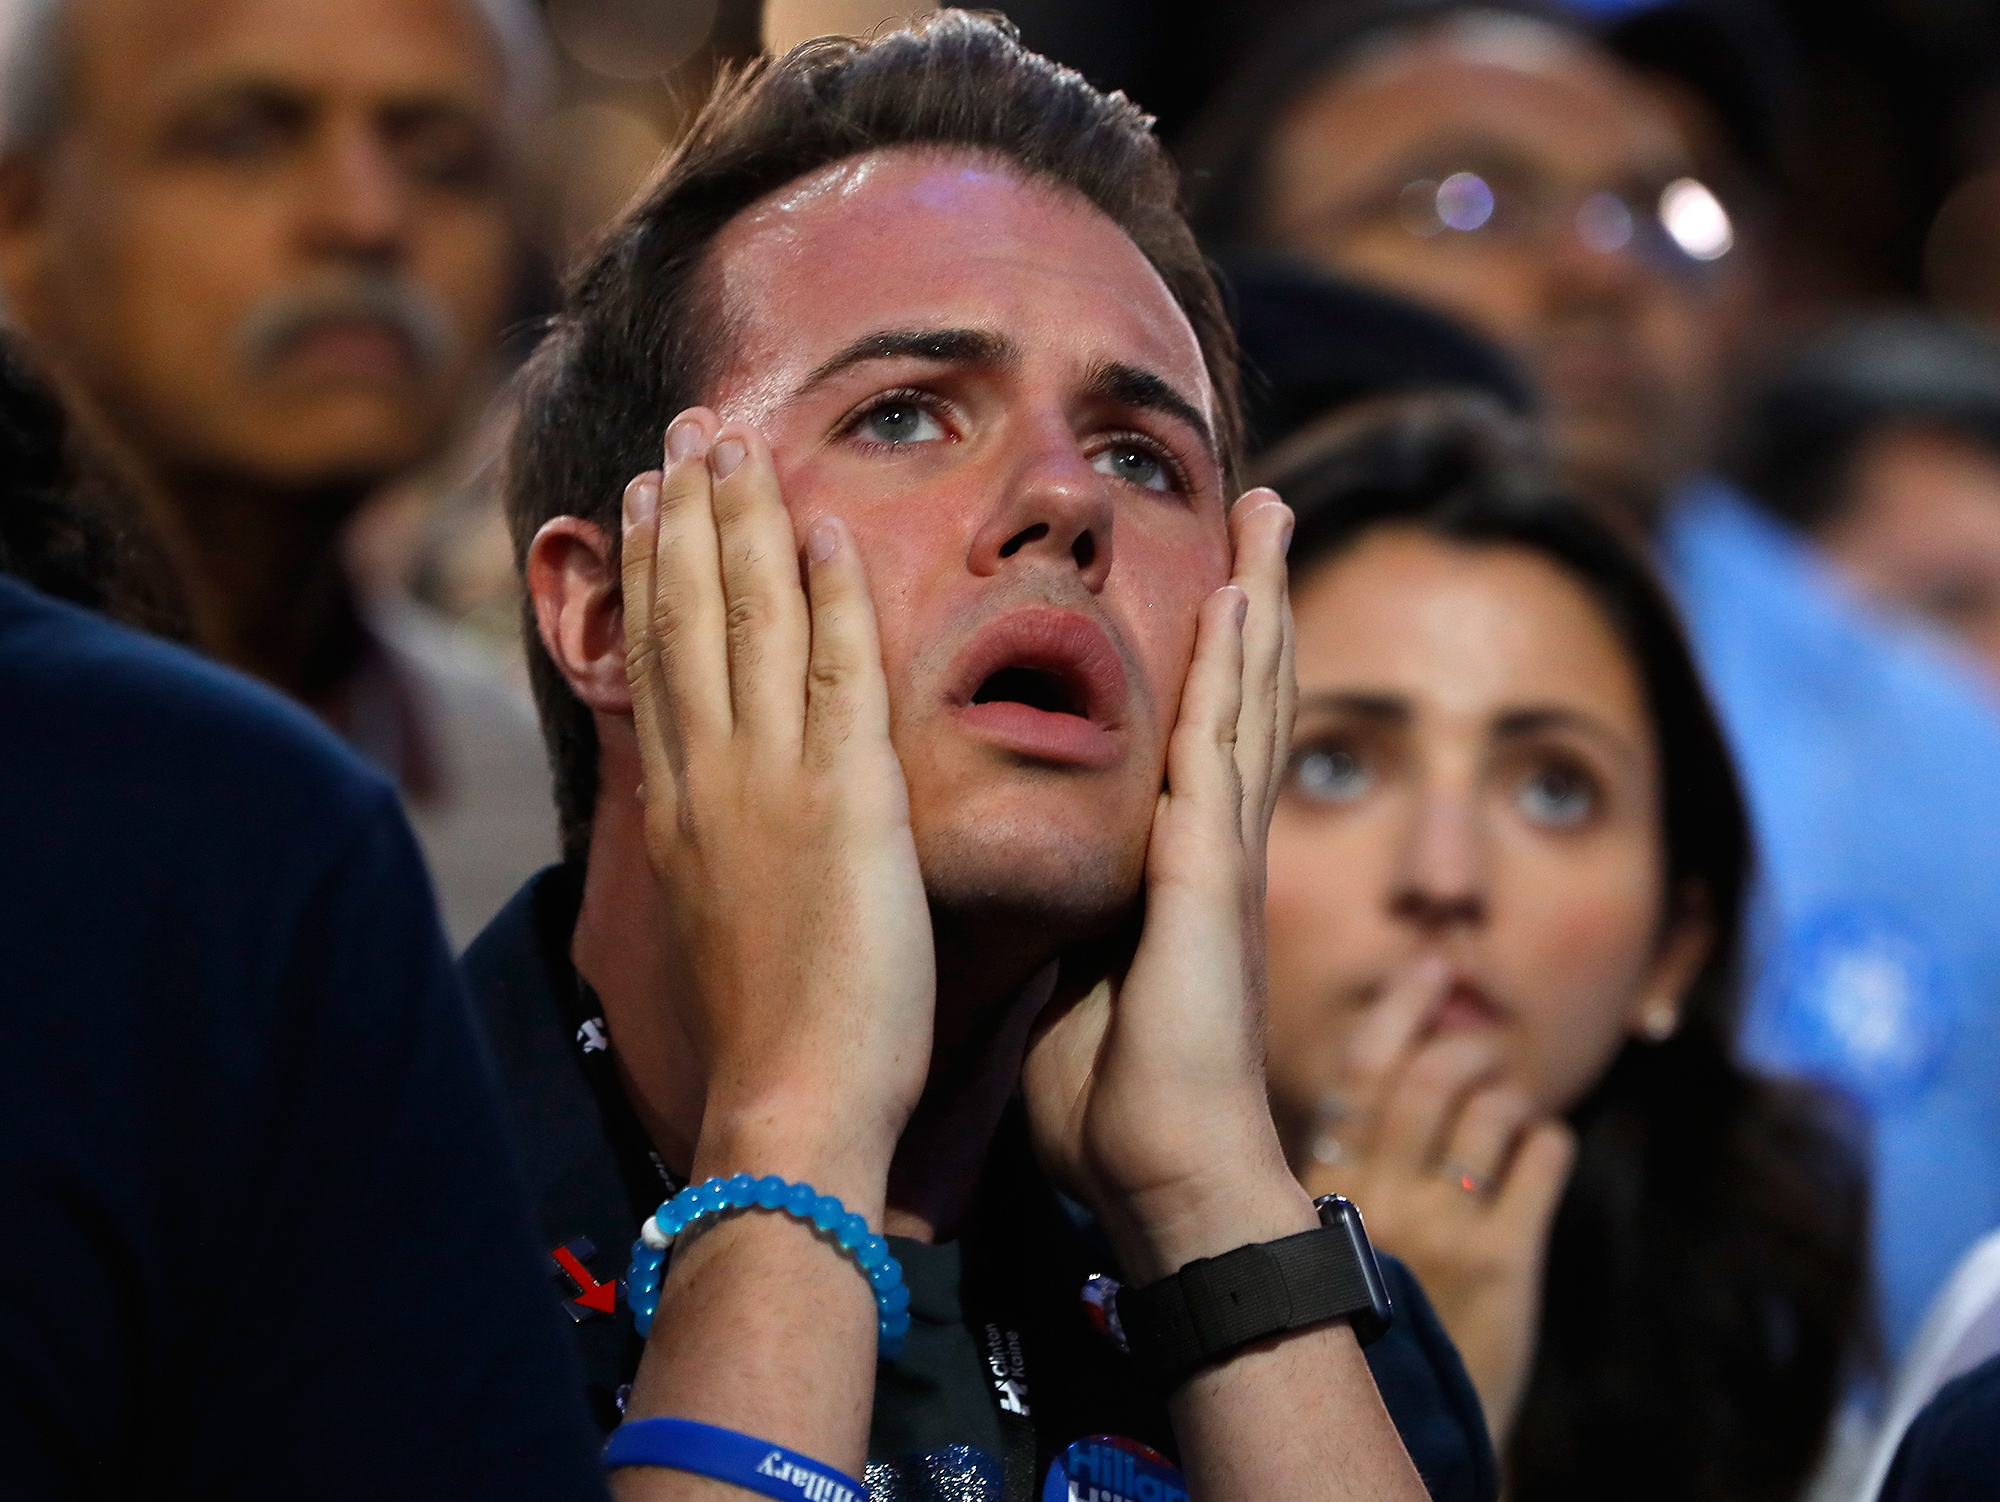sad: (795, 148, 1266, 903)
